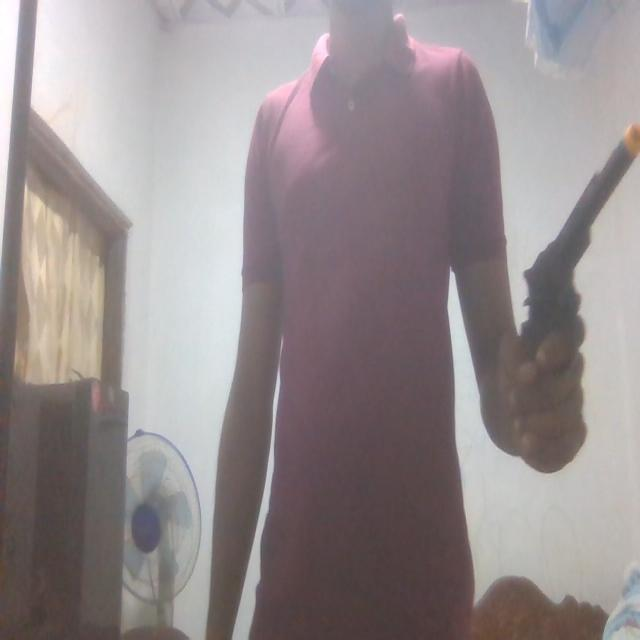Gun_Holder: (510, 101, 640, 515)
Person: (212, 0, 640, 640)
